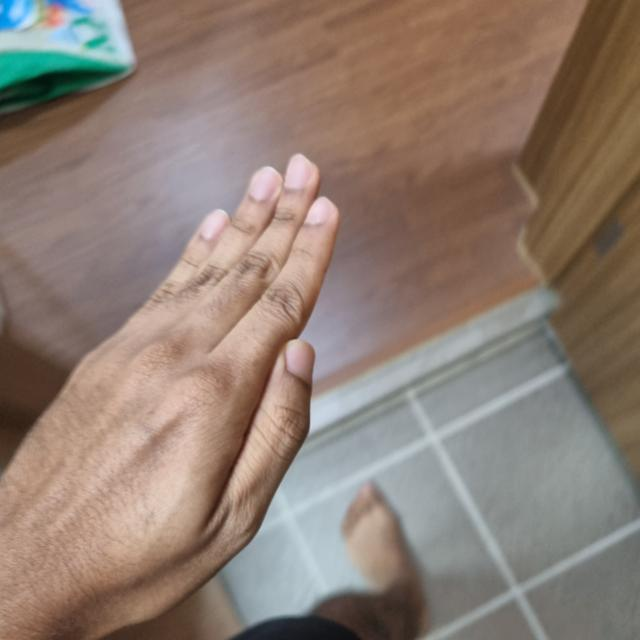Paper: (0, 157, 337, 631)
